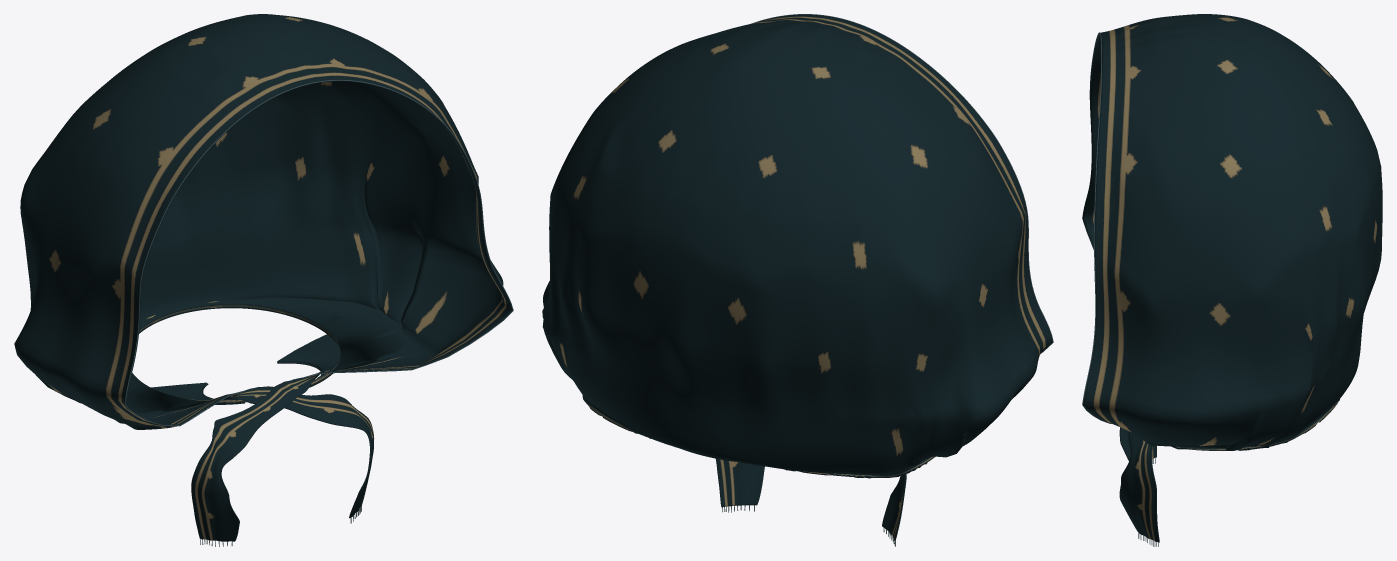
File: Feminine-curls-tank-pashmina249-headgear.glb
3 renders of one model, left to right at view 1: azimuth 30°, elevation 25°; view 2: azimuth 150°, elevation 25°; view 3: azimuth 270°, elevation 25°, orthographic. The views are drawn at different scales.
Visible parts, largest first — view 1: 226 headgear / Headwear / continuous woven pashmina239, 226 headgear / Headwear / face edge239; view 2: 226 headgear / Headwear / continuous woven pashmina239, 226 headgear / Headwear / face edge239; view 3: 226 headgear / Headwear / continuous woven pashmina239, 226 headgear / Headwear / face edge239.
Part boxes in pixels (x1,y1,x2,y2): 226 headgear / Headwear / continuous woven pashmina239: [14, 14, 512, 541]; 226 headgear / Headwear / face edge239: [124, 80, 513, 426]; 226 headgear / Headwear / continuous woven pashmina239: [542, 14, 1052, 540]; 226 headgear / Headwear / face edge239: [752, 14, 1053, 353]; 226 headgear / Headwear / continuous woven pashmina239: [1082, 14, 1382, 542]; 226 headgear / Headwear / face edge239: [1082, 32, 1111, 423].
Bounding box in the file's own units: 1.35 × 1.41 × 0.8047.
3 materials, 1 textured.
